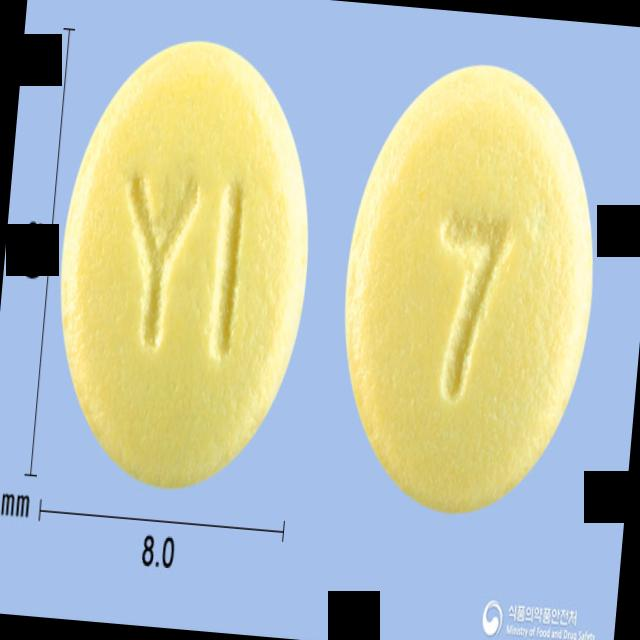Levopa: (327, 51, 612, 522), (42, 28, 325, 500)
